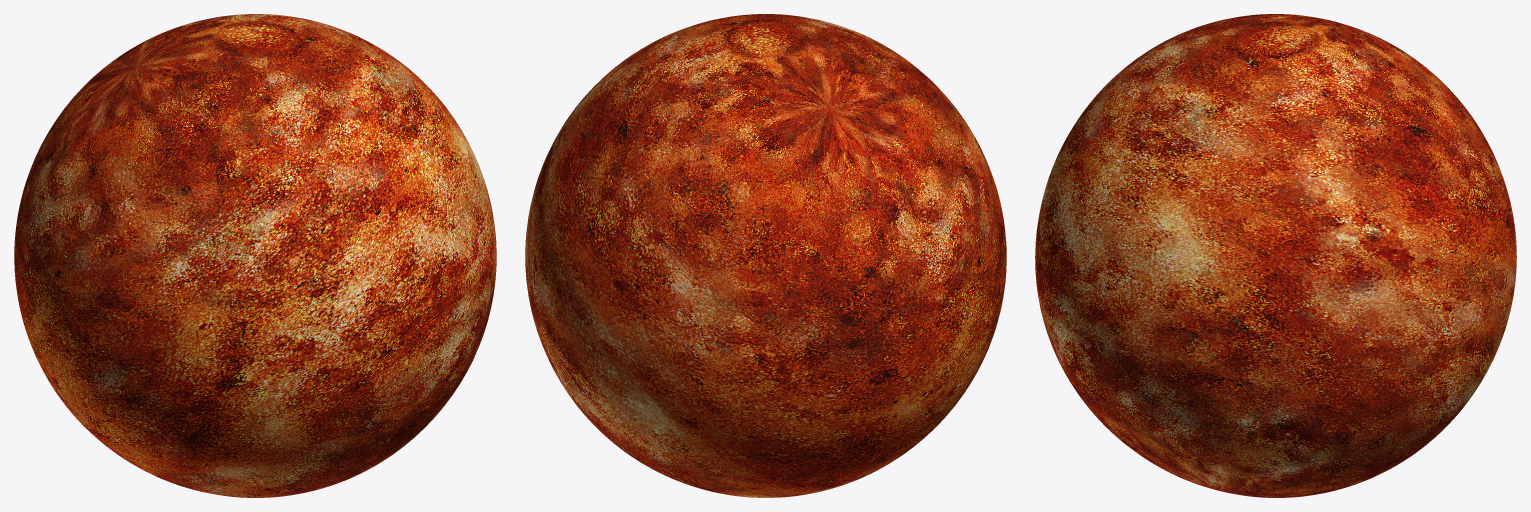
The model's file is fire.obj.
3 views of the same model, side by side, from view 1: azimuth 30°, elevation 25°; view 2: azimuth 150°, elevation 25°; view 3: azimuth 270°, elevation 25° (orthographic).
Visible parts, largest first — view 1: Sphere_Sphere.001; view 2: Sphere_Sphere.001; view 3: Sphere_Sphere.001.
Part boxes in pixels (<box>): Sphere_Sphere.001: <box>14,14,496,497</box>; Sphere_Sphere.001: <box>525,14,1006,497</box>; Sphere_Sphere.001: <box>1035,14,1516,497</box>.
Size of the model in its own units: 1.97 by 1.96 by 1.96.
Materials: 1 (1 with a texture image).
